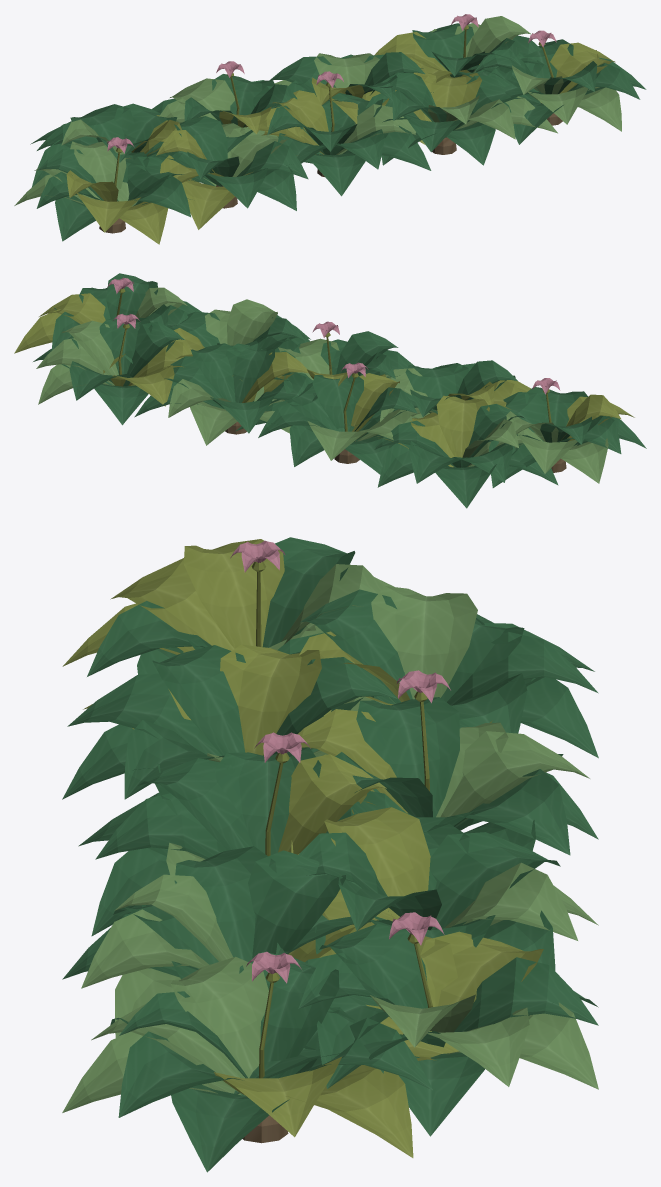
The model's file is AST-BOT-003_pool_basal_04.glb.
3 renders of one model, top to bottom at view 1: azimuth 30°, elevation 25°; view 2: azimuth 150°, elevation 25°; view 3: azimuth 270°, elevation 25°, orthographic. The views are drawn at different scales.
Visible parts, largest first — view 1: RT_AST-BOT-003_pool_basal_04__leaf_jade, RT_AST-BOT-003_pool_basal_04__leaf_sage, RT_AST-BOT-003_pool_basal_04__leaf_olive, RT_AST-BOT-003_pool_basal_04__flower, RT_AST-BOT-003_pool_basal_04__bark; view 2: RT_AST-BOT-003_pool_basal_04__leaf_jade, RT_AST-BOT-003_pool_basal_04__leaf_sage, RT_AST-BOT-003_pool_basal_04__leaf_olive, RT_AST-BOT-003_pool_basal_04__flower, RT_AST-BOT-003_pool_basal_04__bark; view 3: RT_AST-BOT-003_pool_basal_04__leaf_jade, RT_AST-BOT-003_pool_basal_04__leaf_sage, RT_AST-BOT-003_pool_basal_04__leaf_olive, RT_AST-BOT-003_pool_basal_04__flower.
Part boxes in pixels (x1,y1,x2,y2): RT_AST-BOT-003_pool_basal_04__leaf_jade: (30,23,646,241); RT_AST-BOT-003_pool_basal_04__leaf_sage: (14,16,621,206); RT_AST-BOT-003_pool_basal_04__leaf_olive: (66,25,615,244); RT_AST-BOT-003_pool_basal_04__flower: (107,14,556,153); RT_AST-BOT-003_pool_basal_04__bark: (99,103,562,233); RT_AST-BOT-003_pool_basal_04__leaf_jade: (33,273,646,508); RT_AST-BOT-003_pool_basal_04__leaf_sage: (36,287,608,483); RT_AST-BOT-003_pool_basal_04__leaf_olive: (14,288,634,467); RT_AST-BOT-003_pool_basal_04__flower: (107,277,560,394); RT_AST-BOT-003_pool_basal_04__bark: (225,421,566,472); RT_AST-BOT-003_pool_basal_04__leaf_jade: (62,537,598,1172); RT_AST-BOT-003_pool_basal_04__leaf_sage: (62,564,598,1112); RT_AST-BOT-003_pool_basal_04__leaf_olive: (62,539,543,1157); RT_AST-BOT-003_pool_basal_04__flower: (230,540,450,983).
Bounding box in the file's own units: 2.17 × 0.3264 × 0.86.
Materials: 5 (5 with a texture image).
